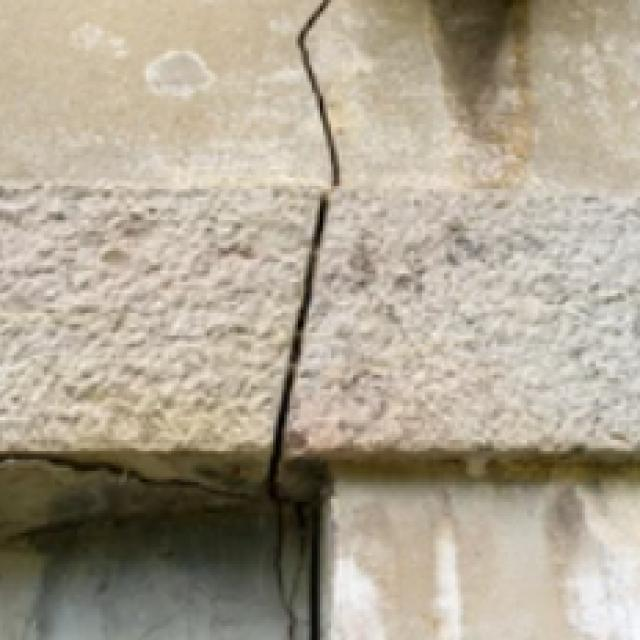branched cracks: (39, 0, 339, 639)
